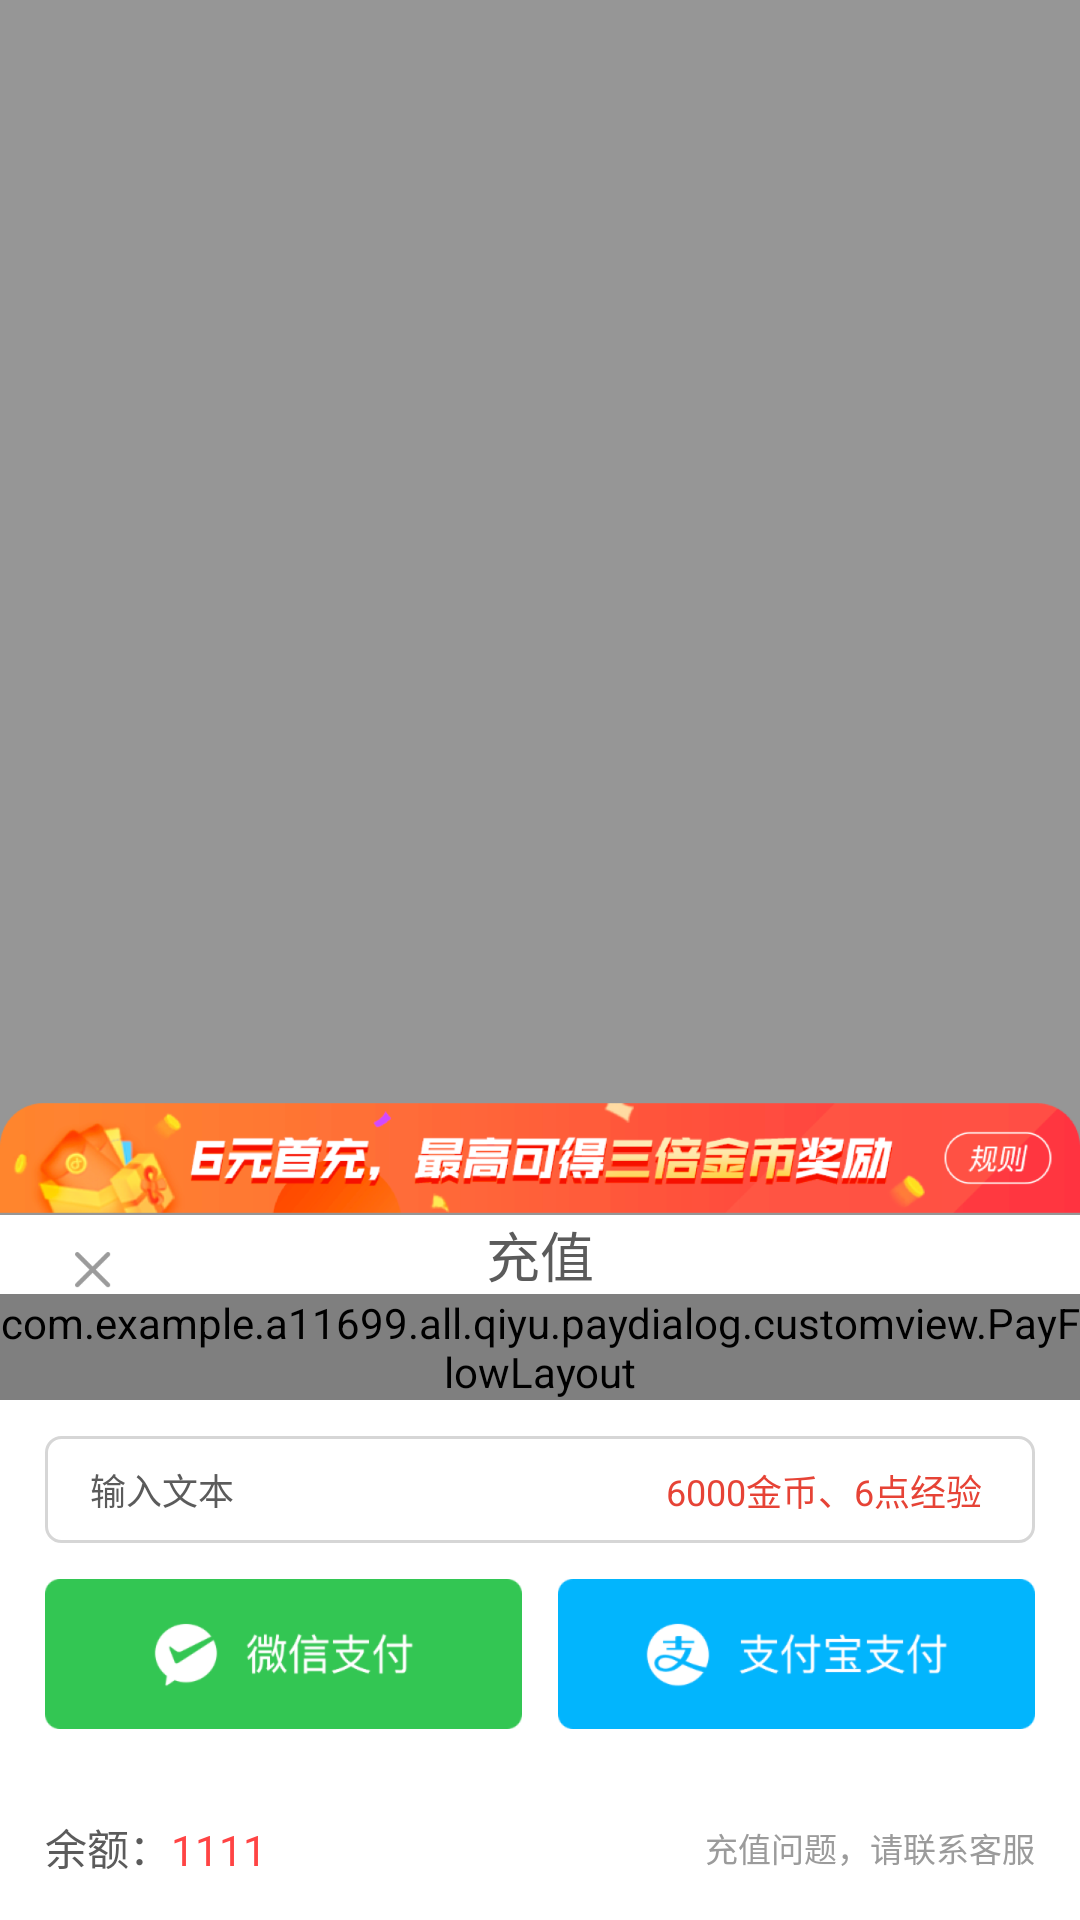

Icons on this 1080px×1920px Android screen, each with its box as (x1=x1, y1=y1, x2=x2, y2=y2):
close: (x1=60, y1=1252, x2=126, y2=1303)
